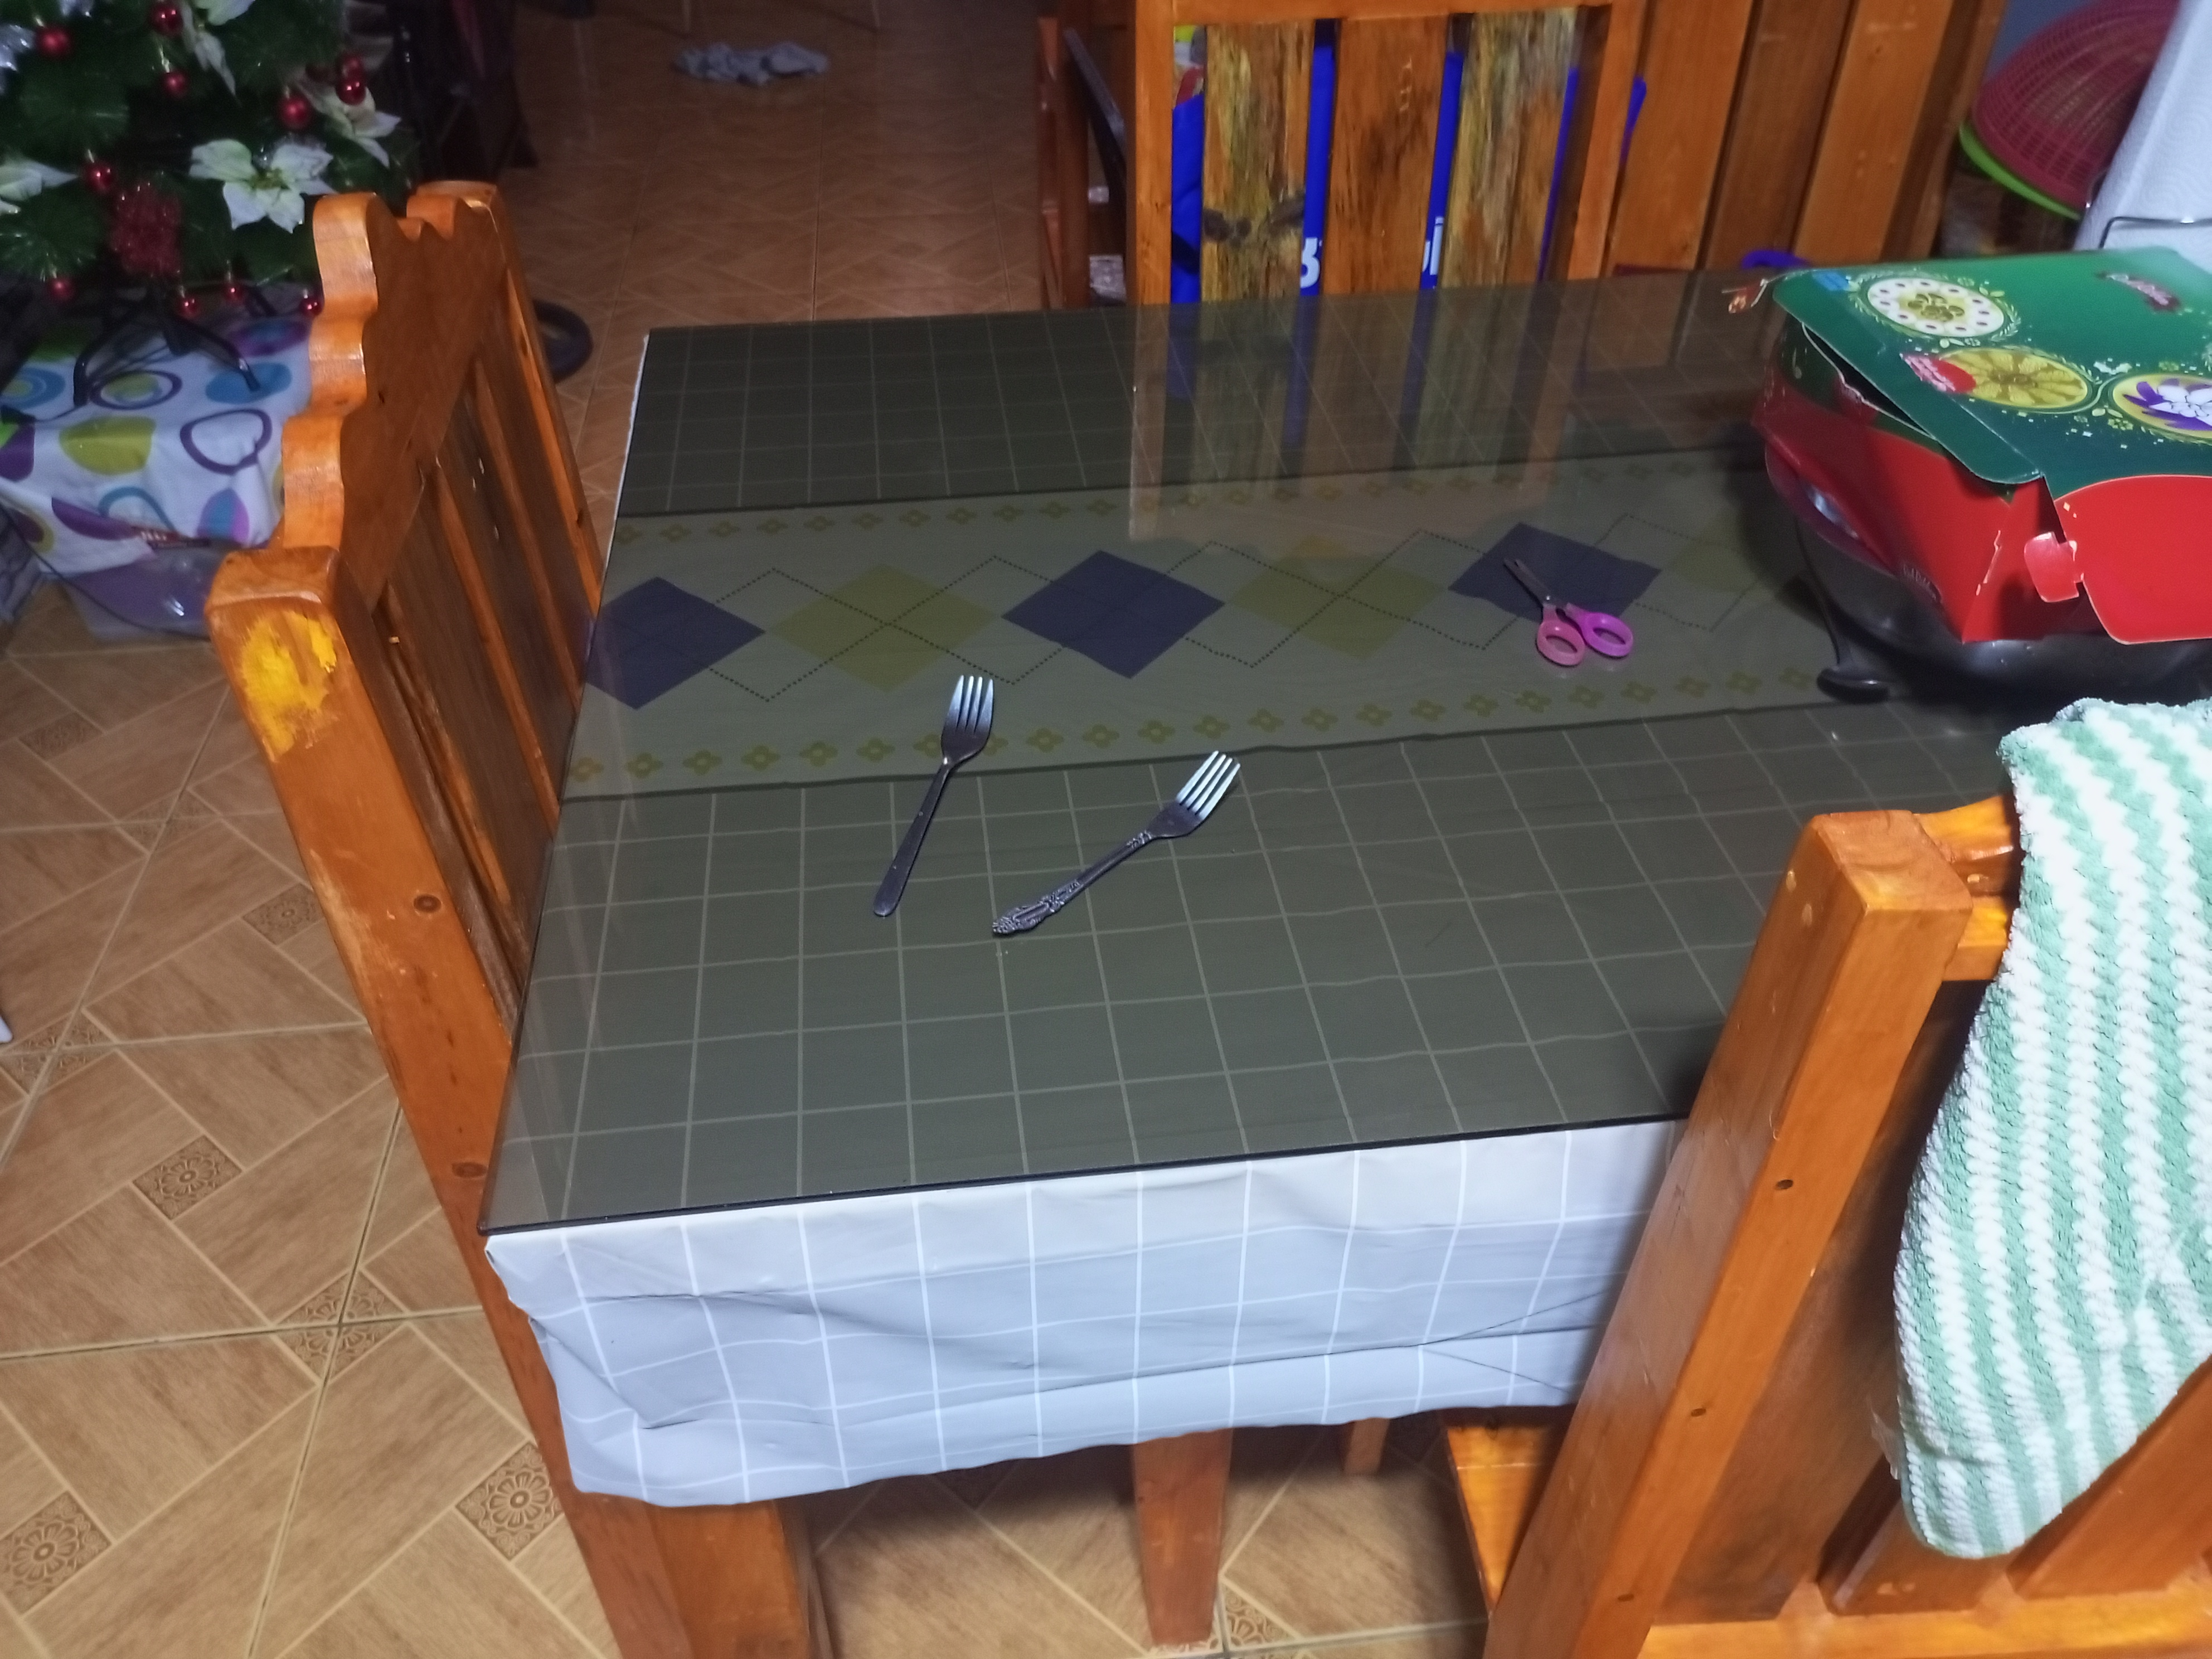fork: (995, 751, 1249, 946), (876, 680, 996, 920)
